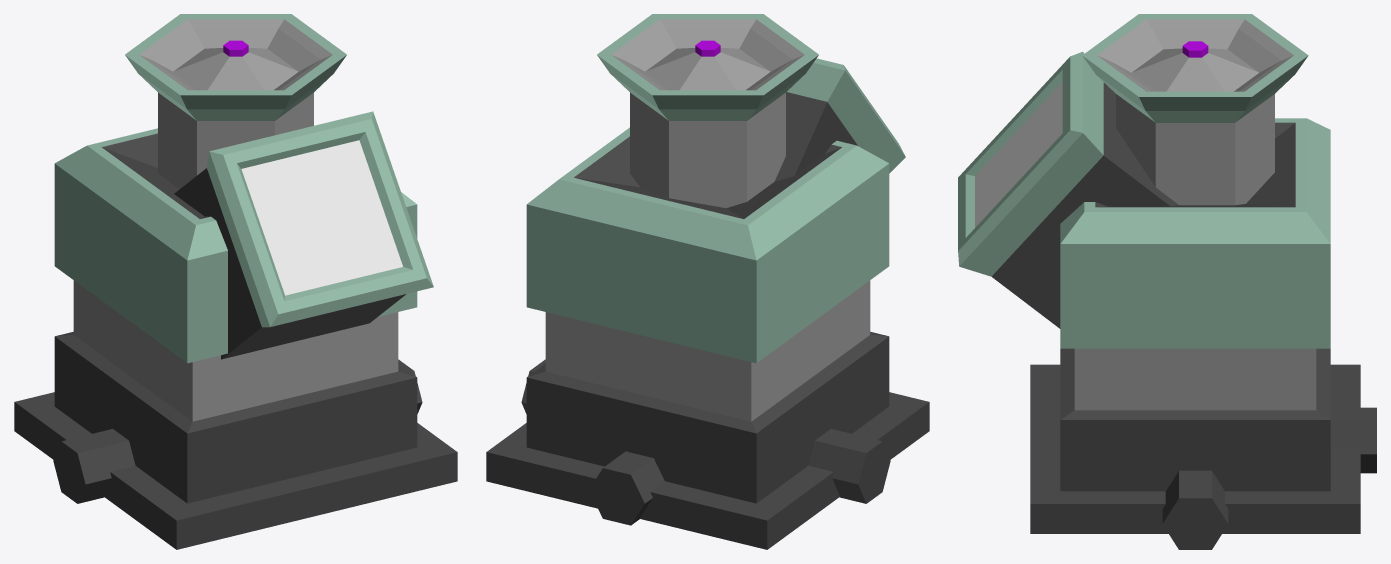
The model's file is Receiver.fbx.
3 renders of one model, left to right at view 1: azimuth 30°, elevation 25°; view 2: azimuth 150°, elevation 25°; view 3: azimuth 270°, elevation 25°, orthographic.
Parts seen in each view (by area): view 1: Cube; view 2: Cube; view 3: Cube.
Part boxes in pixels (x1,y1,x2,y2): Cube: (14, 14, 457, 549); Cube: (486, 14, 929, 549); Cube: (958, 14, 1376, 549).
Bounding box in the file's own units: 240 × 280 × 254.
